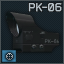BelOMO PK-06 reflex sight: (0, 0, 64, 64)
